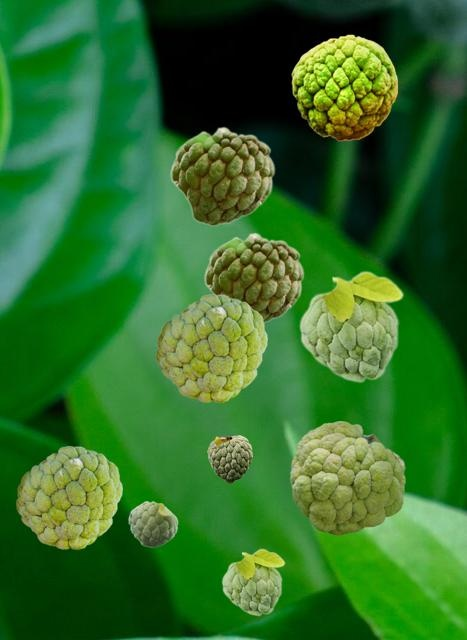atis: (290, 421, 404, 534), (156, 294, 266, 401), (298, 270, 403, 382), (291, 34, 396, 140), (16, 446, 121, 548), (169, 126, 274, 225), (203, 232, 303, 323), (221, 548, 284, 615), (128, 501, 177, 546), (207, 435, 251, 482)
